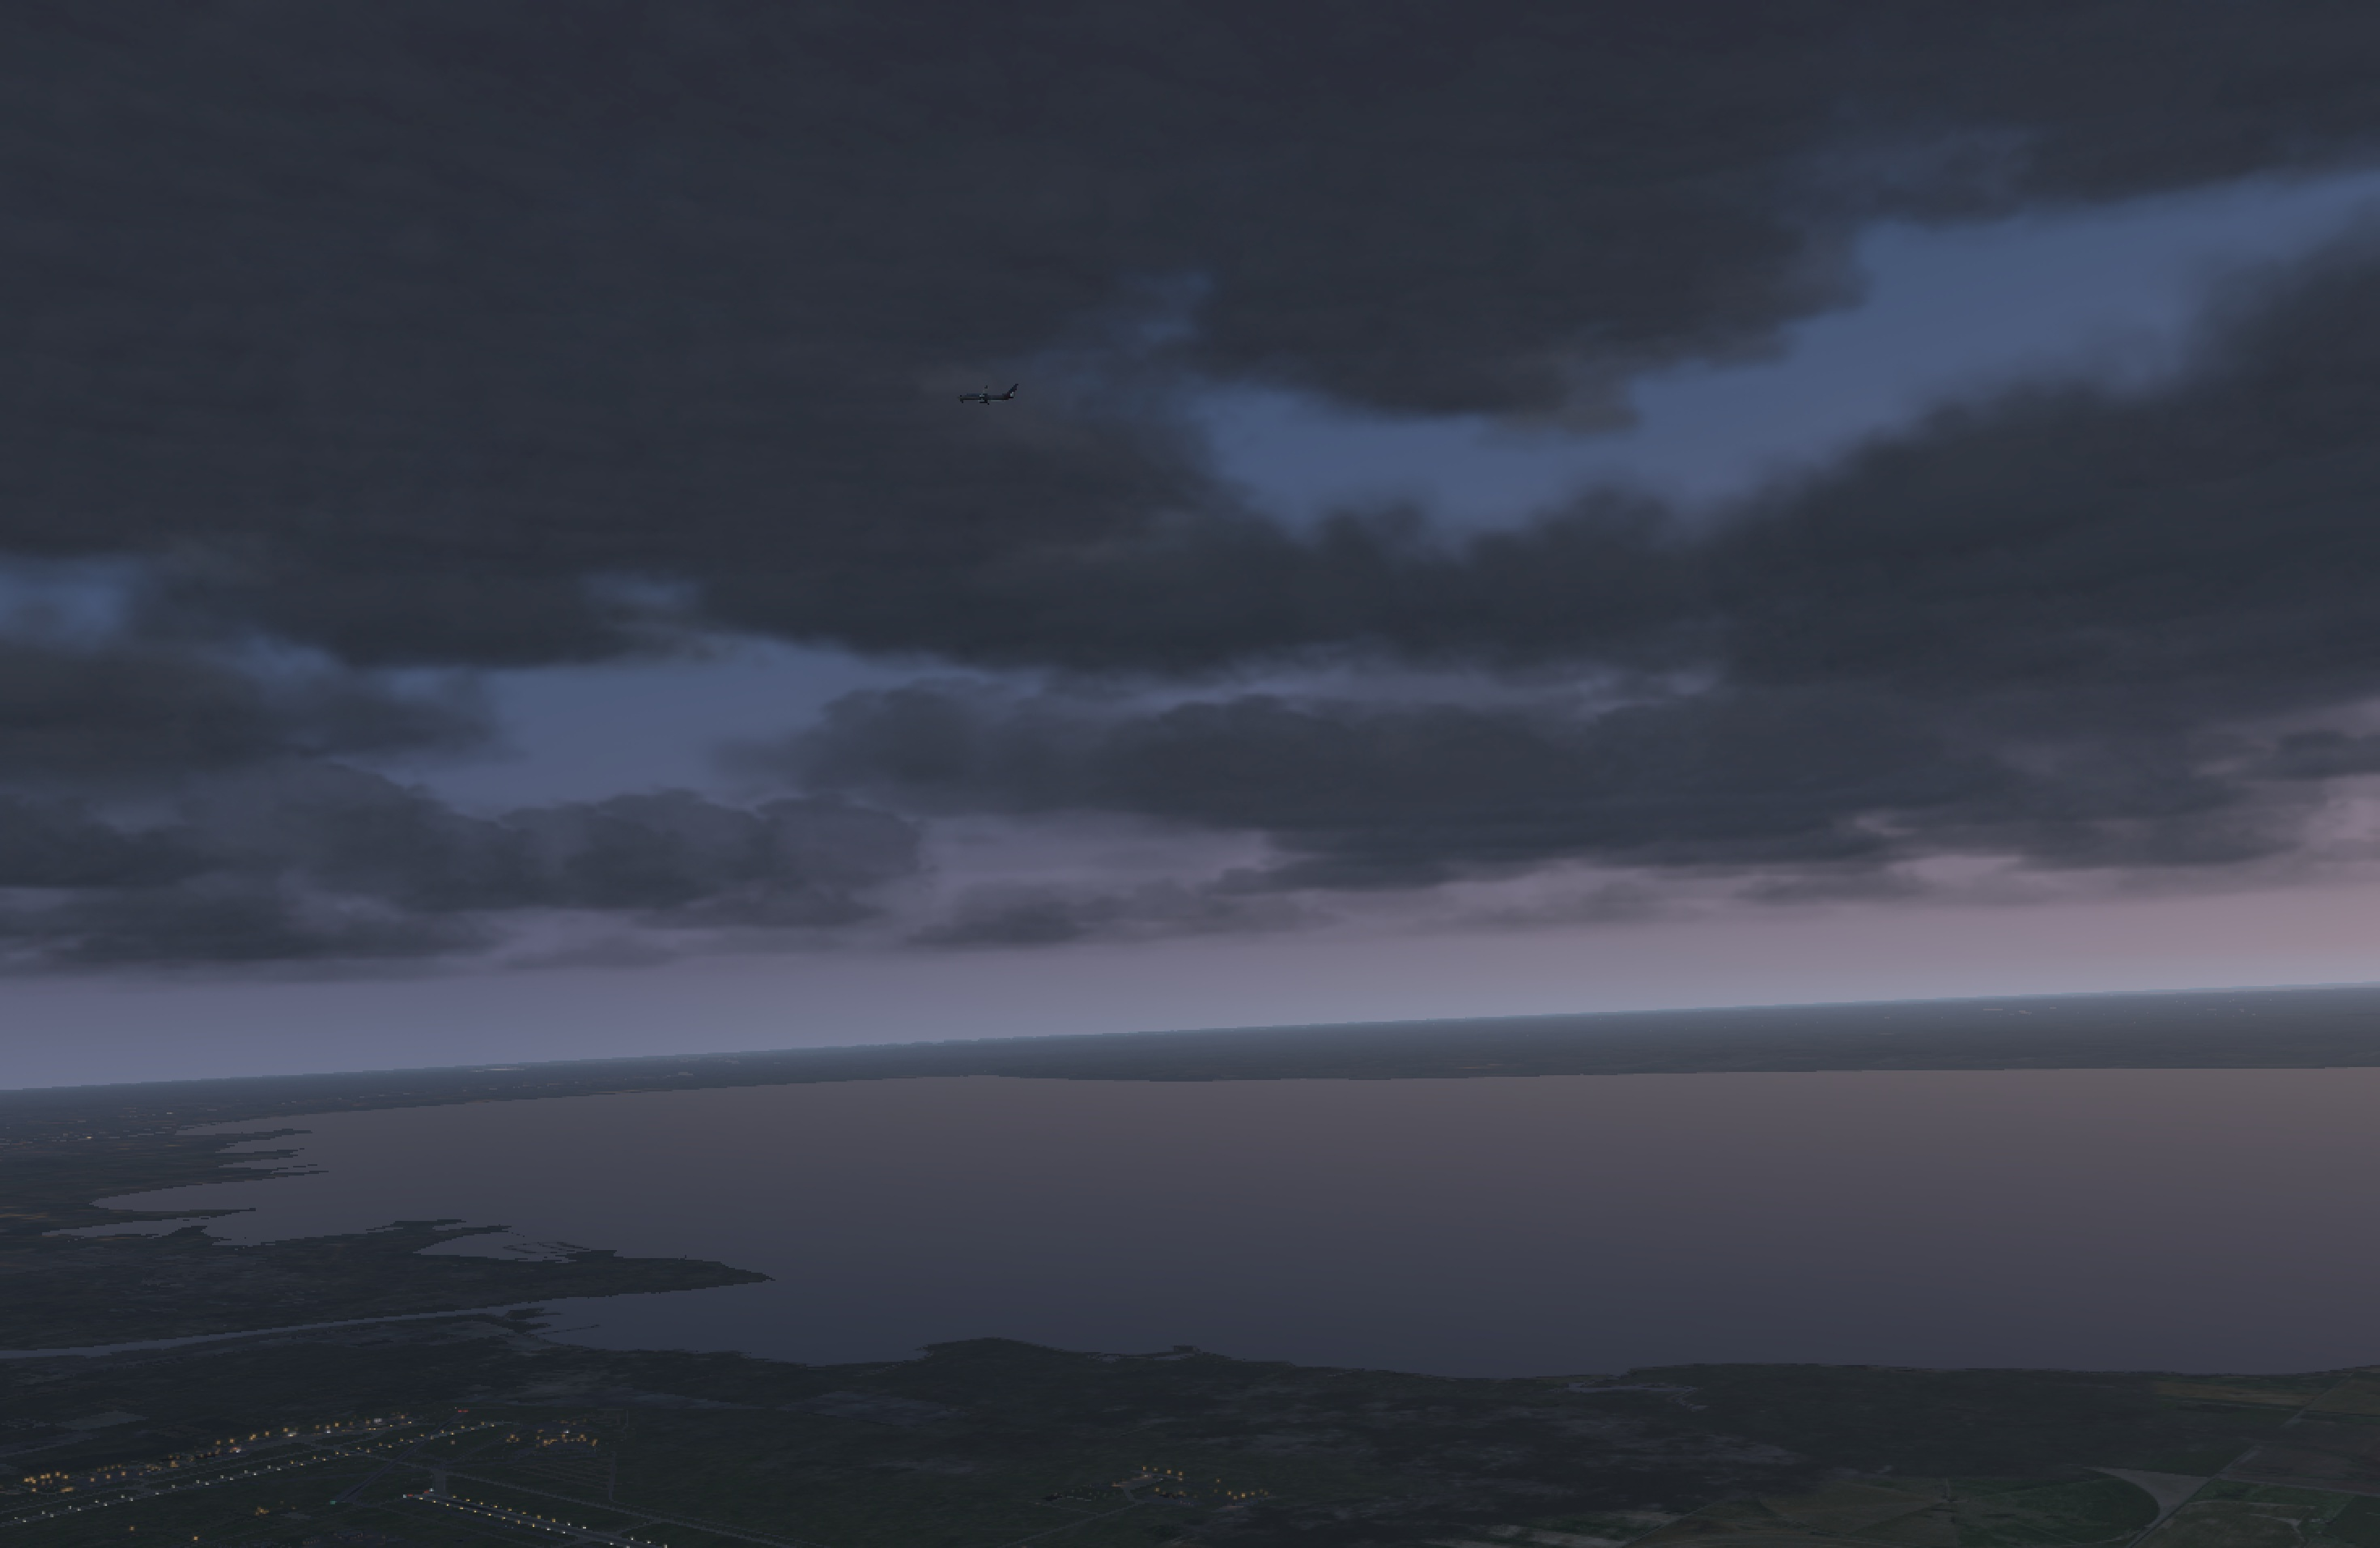aircraft: (954, 387, 1017, 410)
